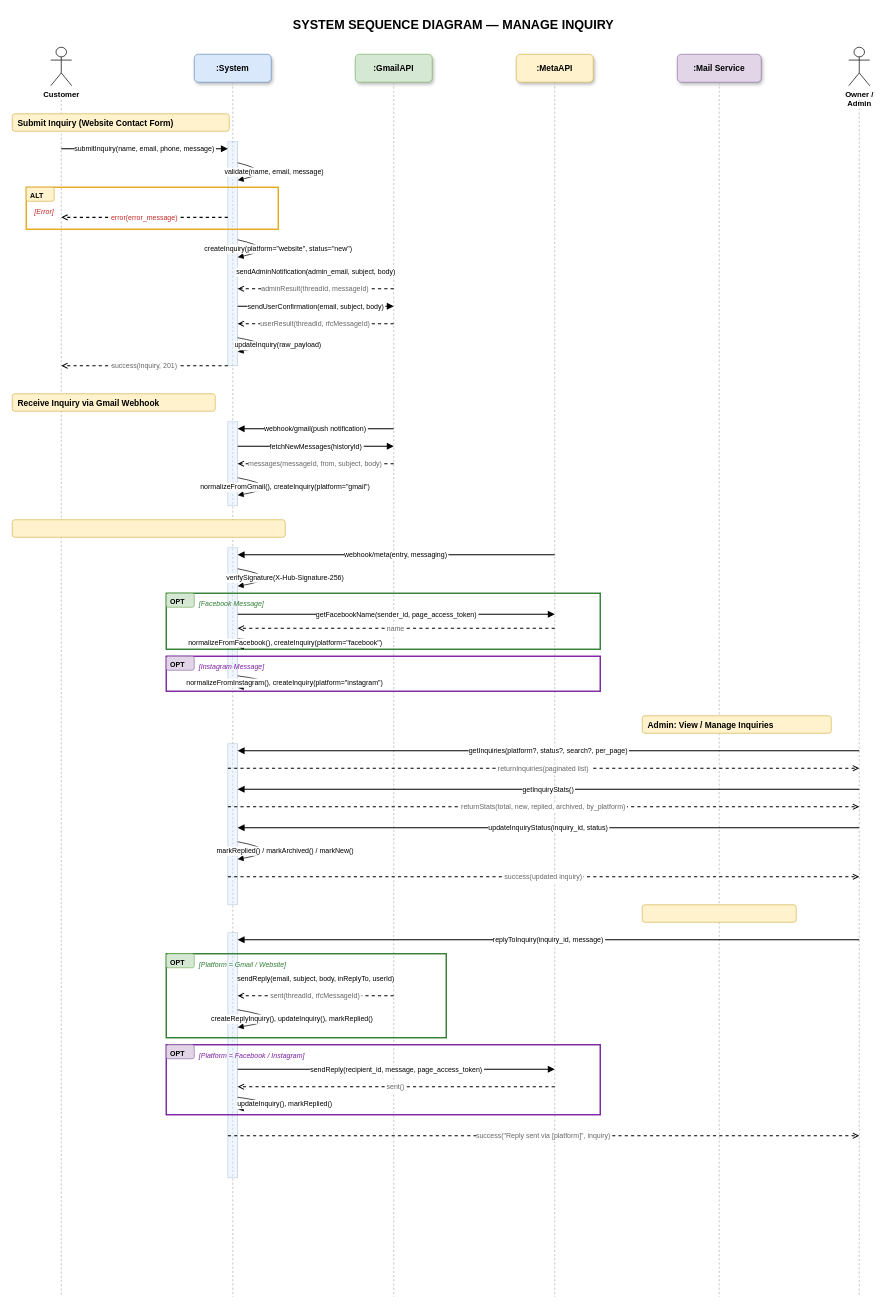
Image size: 886x1310. Some labels were removed from this diagram. Each missing label, with the centre of its shape:
"Admin: Reply to Inquiry" belongs at (x=719, y=913).
"Receive Inquiry via Facebook / Instagram Webhook" belongs at (x=148, y=528).
